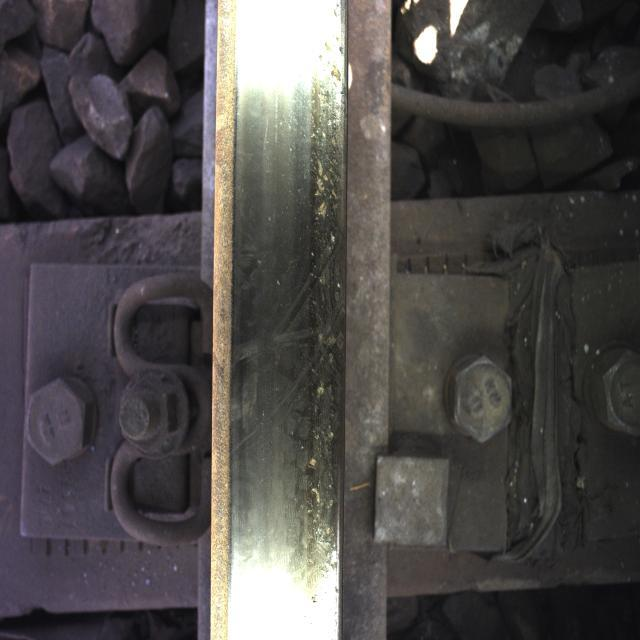scar: (296, 49, 348, 579)
